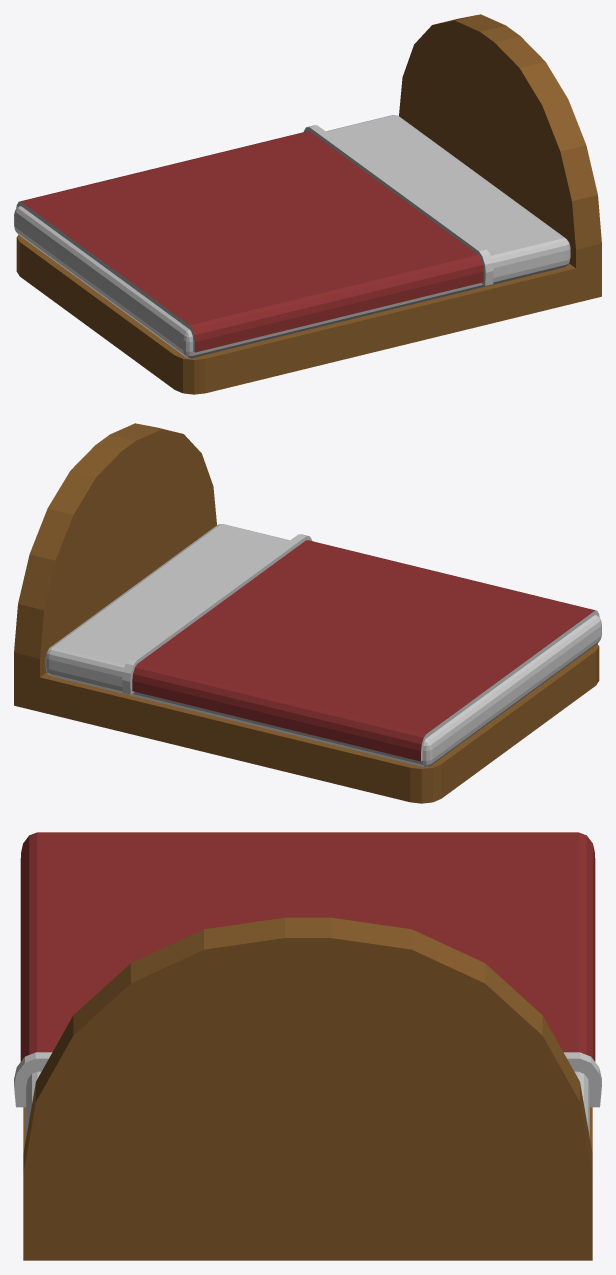
Rendered from Double Bed_2.fbx.
The picture shows the model from 3 angles, top to bottom: view 1: azimuth 30°, elevation 25°; view 2: azimuth 150°, elevation 25°; view 3: azimuth 270°, elevation 25°; orthographic projection. The views are drawn at different scales.
Visible parts, largest first — view 1: Double Bed_2; view 2: Double Bed_2; view 3: Double Bed_2.
Part boxes in pixels (<box>): Double Bed_2: <box>14,14,601,394</box>; Double Bed_2: <box>14,423,601,803</box>; Double Bed_2: <box>14,832,601,1260</box>.
Bounding box in the file's own units: 2.29 × 1.06 × 1.75.
